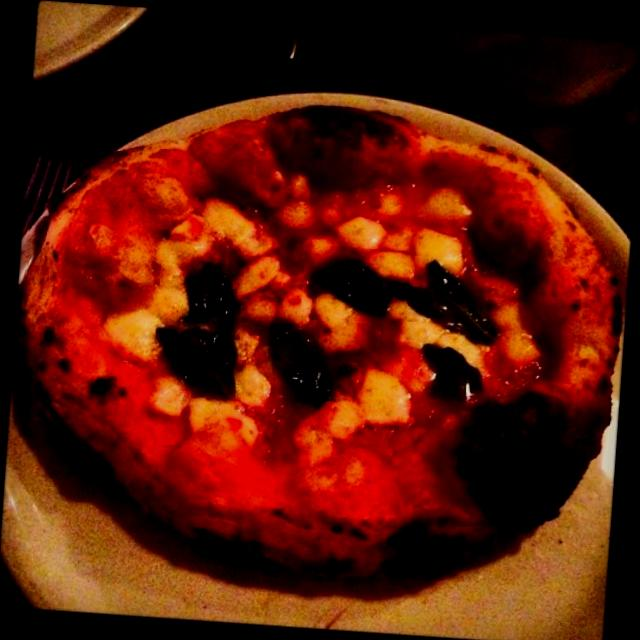basil: (152, 262, 246, 402), (382, 254, 489, 348), (300, 244, 411, 326), (243, 323, 334, 399), (398, 338, 476, 405)
pizza: (23, 105, 621, 575)
